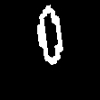chain: (37, 5, 62, 64)
